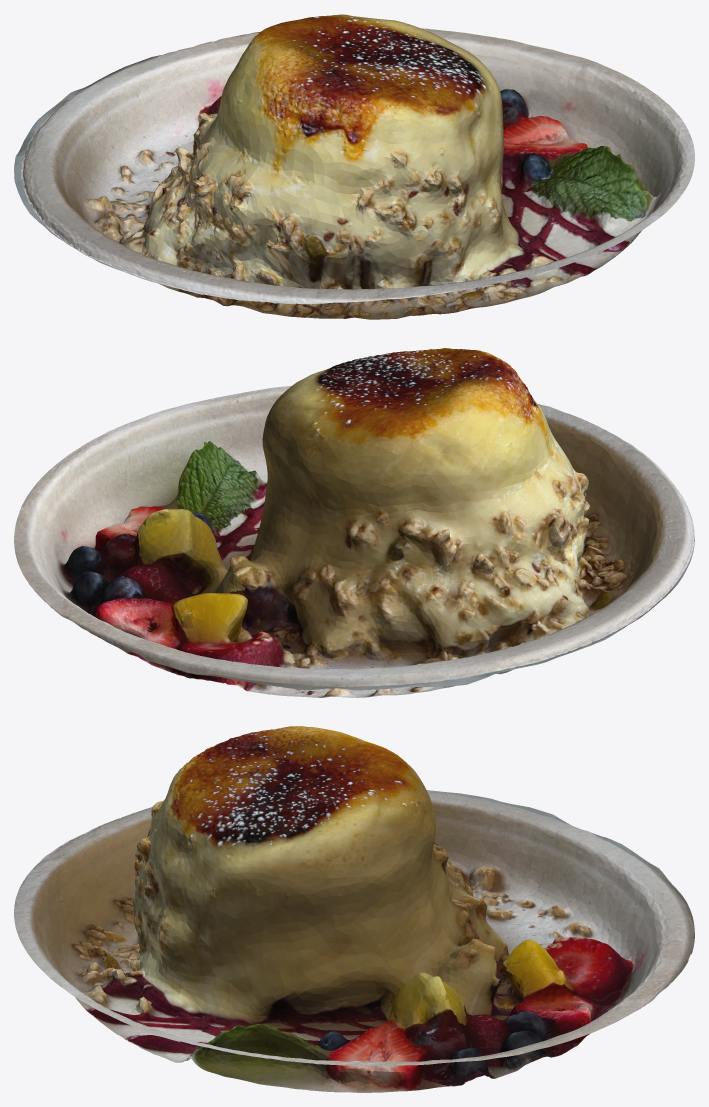
Rendered from cremebrulee_T2dJgDj.glb.
3 renders of one model, top to bottom at view 1: azimuth 30°, elevation 25°; view 2: azimuth 150°, elevation 25°; view 3: azimuth 270°, elevation 25°, orthographic.
Size of the model in its own units: 0.2638 by 0.0888 by 0.2638.
Materials: 1 (1 with a texture image).
